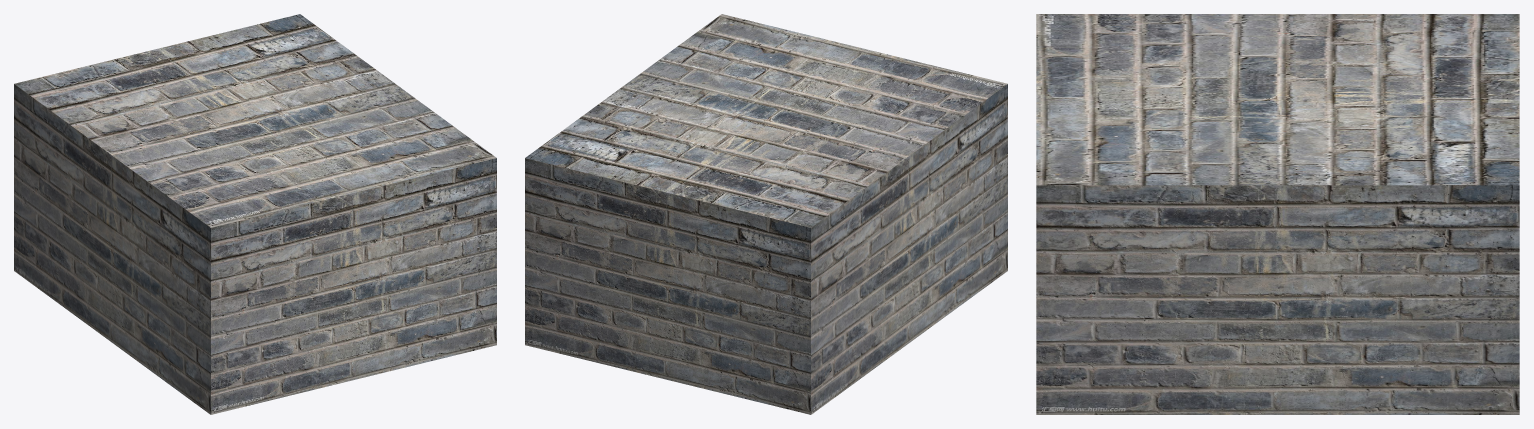
3 renders of one model, left to right at view 1: azimuth 30°, elevation 25°; view 2: azimuth 150°, elevation 25°; view 3: azimuth 270°, elevation 25°, orthographic. The views are drawn at different scales.
Visible parts, largest first — view 1: Box001; view 2: Box001; view 3: Box001.
Boxes of the visible parts, x1,y1,x2,y2 form: Box001: (14, 14, 496, 414); Box001: (525, 14, 1007, 414); Box001: (1036, 14, 1519, 414).
Bounding box in the file's own units: 81.97 × 97.67 × 51.22.
1 material, 1 textured.
